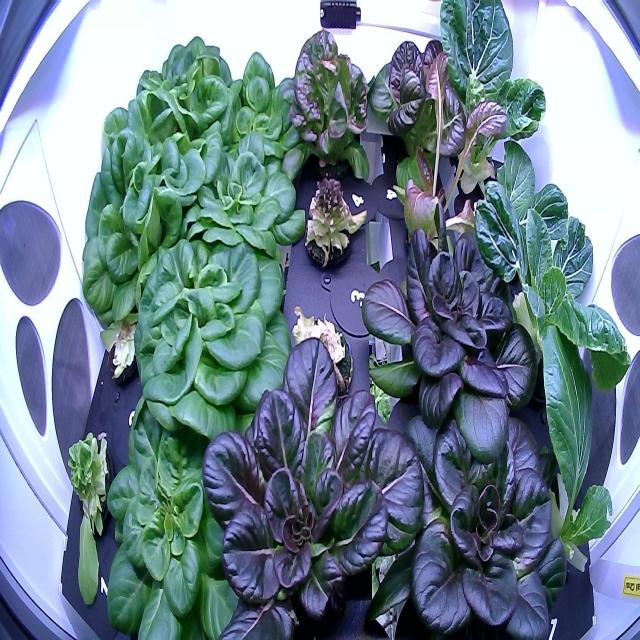Ready: (57, 101, 215, 344), (125, 23, 242, 171)
young: (188, 329, 431, 640), (354, 202, 552, 478), (401, 373, 577, 640), (96, 382, 249, 639), (130, 210, 295, 440), (367, 18, 472, 208), (175, 128, 312, 266), (274, 13, 376, 192), (198, 46, 320, 178)
